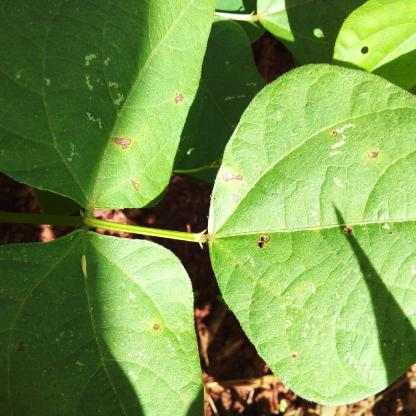Beans_Angular_LeafSpot: (205, 74, 416, 405), (0, 0, 189, 201), (0, 238, 202, 413)
